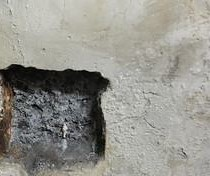Spalling: (1, 63, 111, 176)
